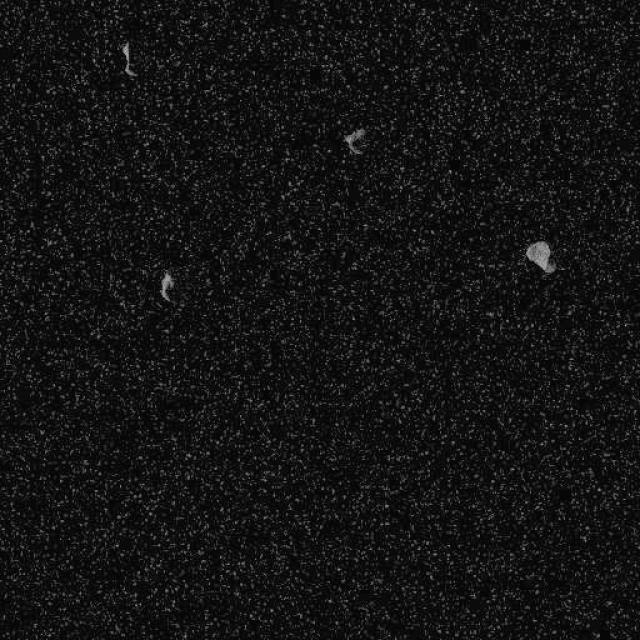D2: (524, 238, 556, 274), (342, 126, 367, 155), (119, 40, 138, 78), (159, 270, 175, 302)
